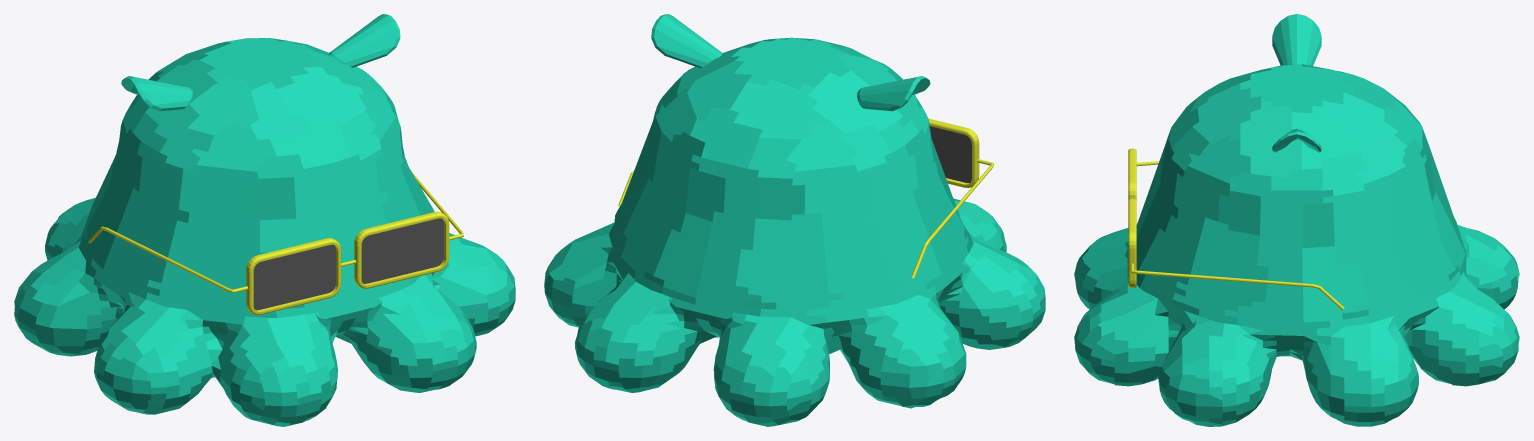
File: kokukoku.glb
The picture shows the model from 3 angles, left to right: view 1: azimuth 30°, elevation 25°; view 2: azimuth 150°, elevation 25°; view 3: azimuth 270°, elevation 25°; orthographic projection. The views are drawn at different scales.
Visible parts, largest first — view 1: kokukoku; view 2: kokukoku; view 3: kokukoku.
Part boxes in pixels (x1,y1,x2,y2): kokukoku: (14, 14, 515, 426); kokukoku: (544, 14, 1045, 426); kokukoku: (1074, 14, 1519, 426).
Bounding box in the file's own units: 2.64 × 1.8 × 2.64.
